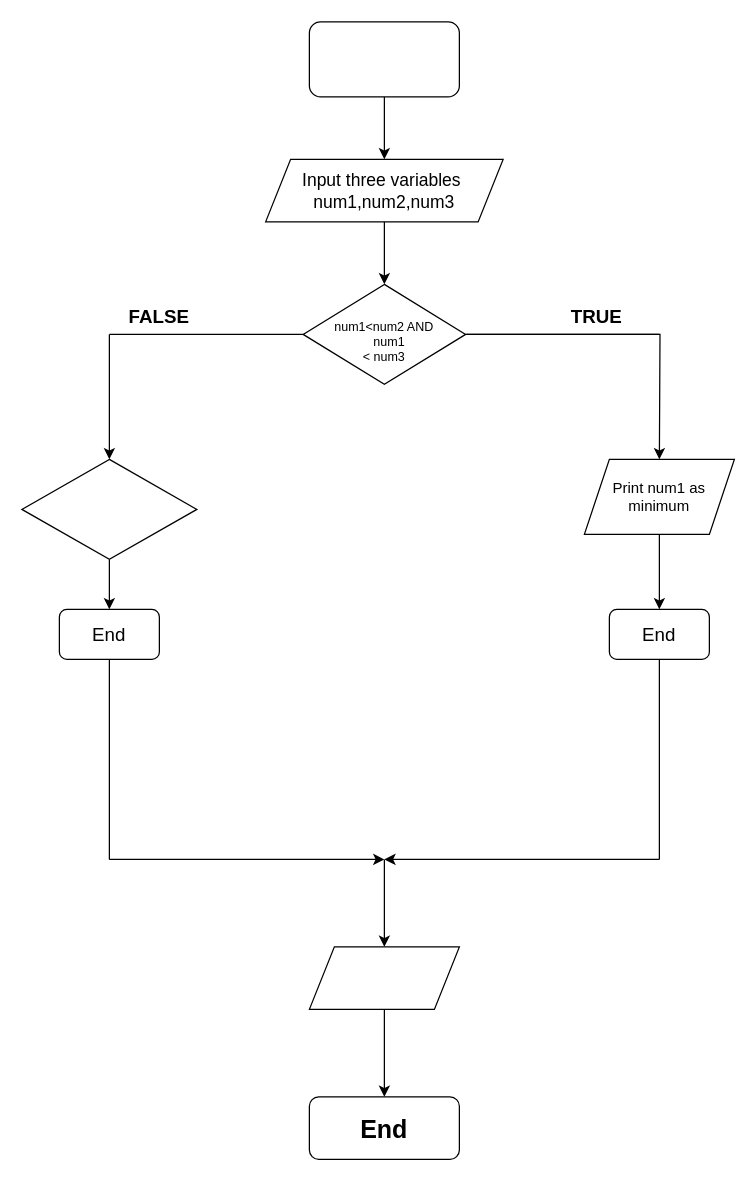
The diagram is 756 pixels wide and 1181 high, and some of its shapes have lost their labels. Each missing label, with the box of its shape:
num2<num1 AND num2<num3: (21, 458, 197, 559)
Print num3: (308, 946, 459, 1009)
Start: (308, 21, 459, 97)
